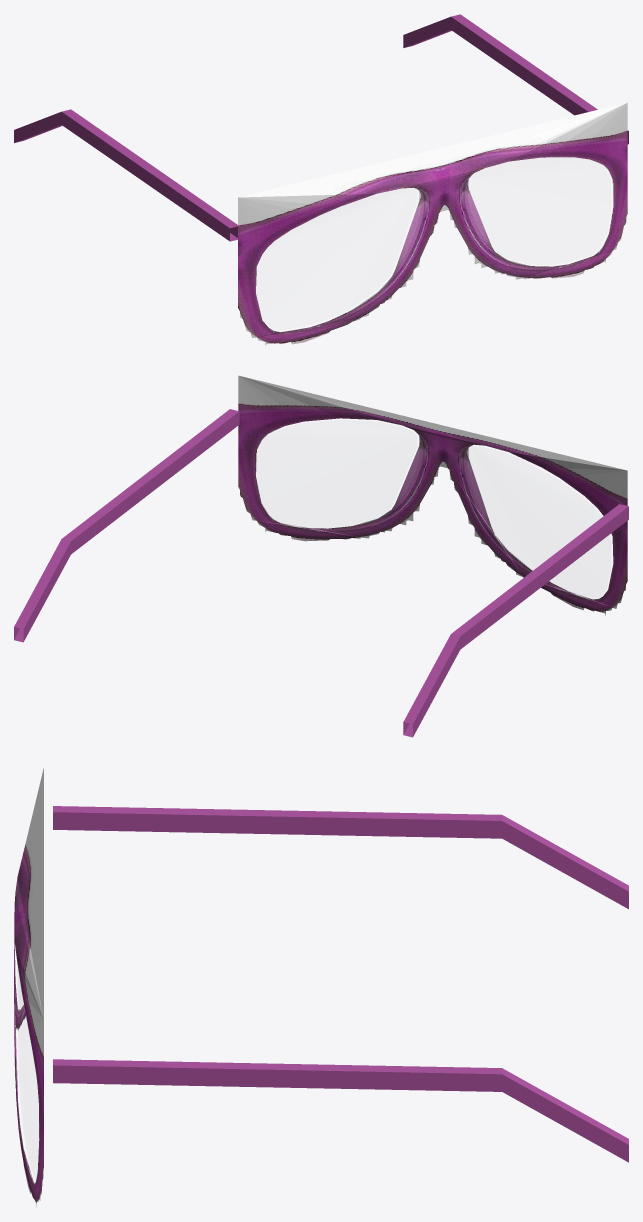
File: gothamstyle-236_matte-purple.glb
The picture shows the model from 3 angles, top to bottom: view 1: azimuth 30°, elevation 25°; view 2: azimuth 150°, elevation 25°; view 3: azimuth 270°, elevation 25°; orthographic projection. The views are drawn at different scales.
Parts seen in each view (by area): view 1: frame_front, temple_viewer_left, temple_viewer_right; view 2: frame_front, temple_viewer_left, temple_viewer_right; view 3: temple_viewer_left, temple_viewer_right, frame_front.
Part boxes in pixels (box(x1,y1,x2,y2)): frame_front: box(238, 102, 627, 345); temple_viewer_left: box(14, 109, 237, 241); temple_viewer_right: box(403, 14, 628, 144); frame_front: box(238, 375, 627, 615); temple_viewer_left: box(403, 504, 628, 737); temple_viewer_right: box(14, 409, 239, 642); temple_viewer_left: box(53, 806, 628, 909); temple_viewer_right: box(53, 1059, 628, 1162); frame_front: box(14, 768, 43, 1206).
Size of the model in its own units: 0.1258 by 0.0468 by 0.126.
Materials: 3 (2 with a texture image).
